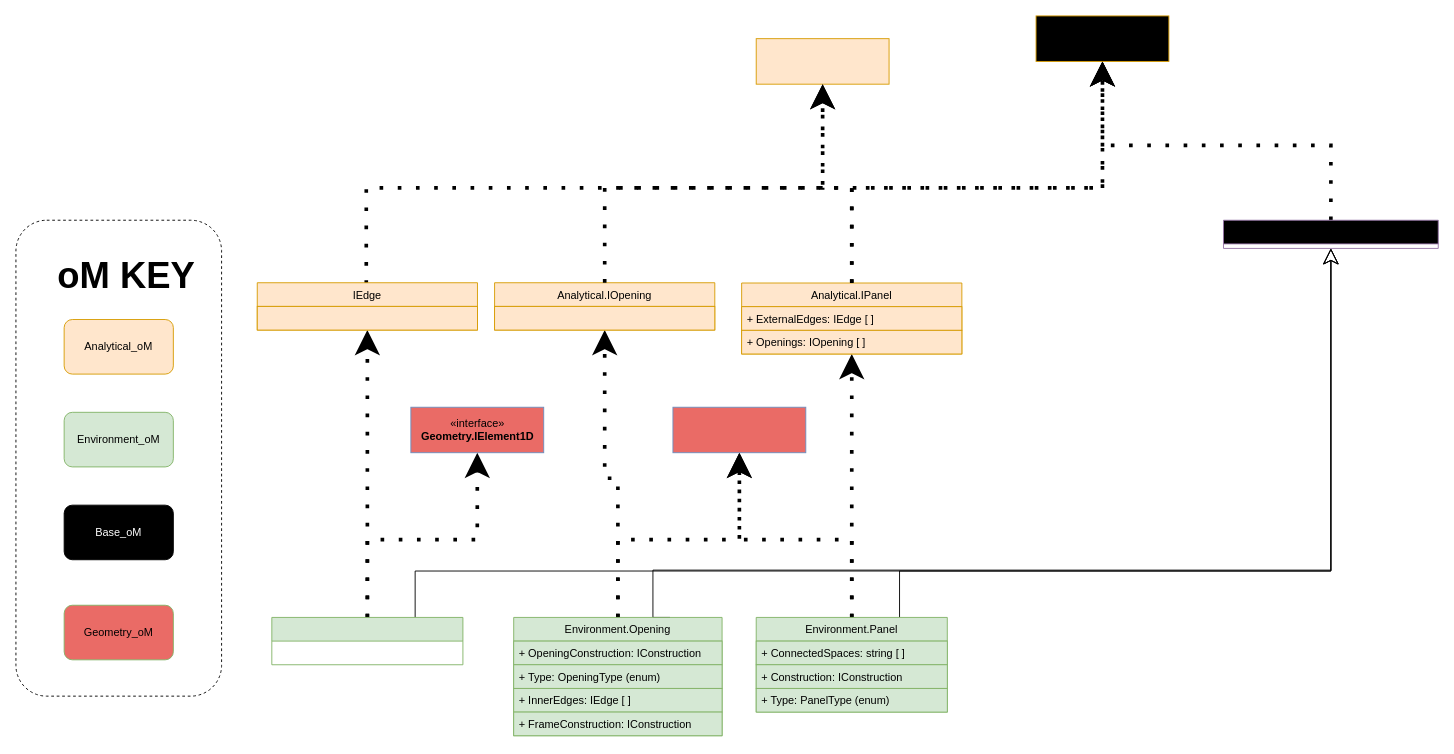
Some shapes in this 1454 by 754 pixel diagram are drawn without their labels. Each missing label, with the centre of its shape:
"+ Curve: ICurve" belongs at (x=366, y=317).
"+ Edges: IEdge [ ]" belongs at (x=604, y=317).
"BHoMObject" belongs at (x=1330, y=233).
"Environment.Edge" belongs at (x=367, y=641).
"«interface» Analytical.IAnalytical" belongs at (x=822, y=61).
"«interface» Base.IBHoMObject" belongs at (x=1102, y=38).
"«interface» Geometry.IElement2D" belongs at (x=739, y=429).
